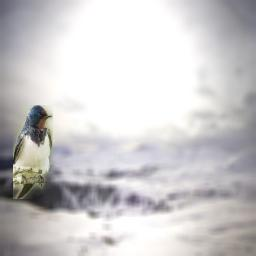Swallow: (13, 105, 53, 199)
